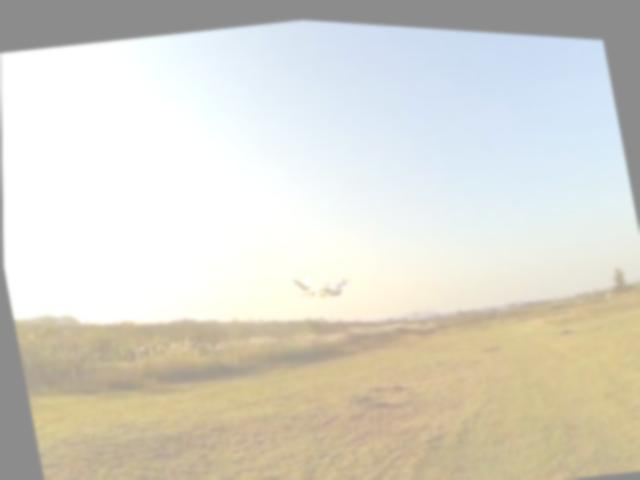uav: (284, 252, 357, 312)
